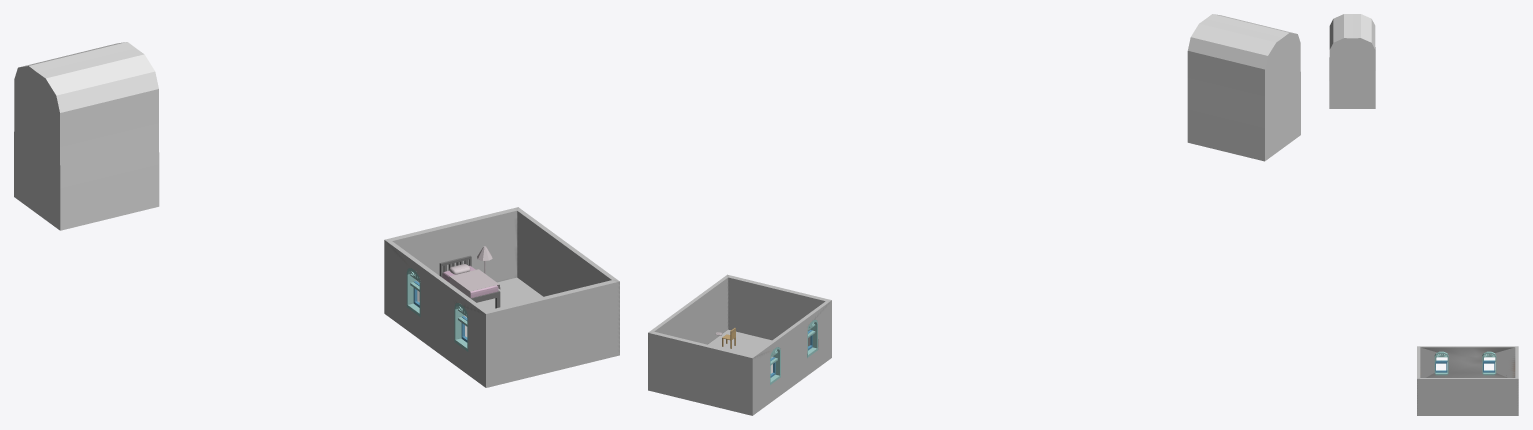
File: Room2.fbx
3 renders of one model, left to right at view 1: azimuth 30°, elevation 25°; view 2: azimuth 150°, elevation 25°; view 3: azimuth 270°, elevation 25°, orthographic. The views are drawn at different scales.
Parts seen in each view (by area): view 1: Room, 평면.001, 평면, BEDfRAME; view 2: Room, 평면.001; view 3: Room, 평면.001, Window.001, Window.002.
Part boxes in pixels (x1,y1,x2,y2): Room: [384, 207, 619, 387]; 평면.001: [14, 42, 159, 230]; 평면: [449, 269, 500, 297]; BEDfRAME: [439, 255, 500, 308]; Room: [648, 274, 831, 415]; 평면.001: [1187, 14, 1300, 161]; Room: [1417, 346, 1518, 415]; 평면.001: [1329, 14, 1375, 108]; Window.001: [1434, 351, 1448, 375]; Window.002: [1482, 351, 1496, 375].
Bounding box in the file's own units: 4731 × 3410 × 2395.
